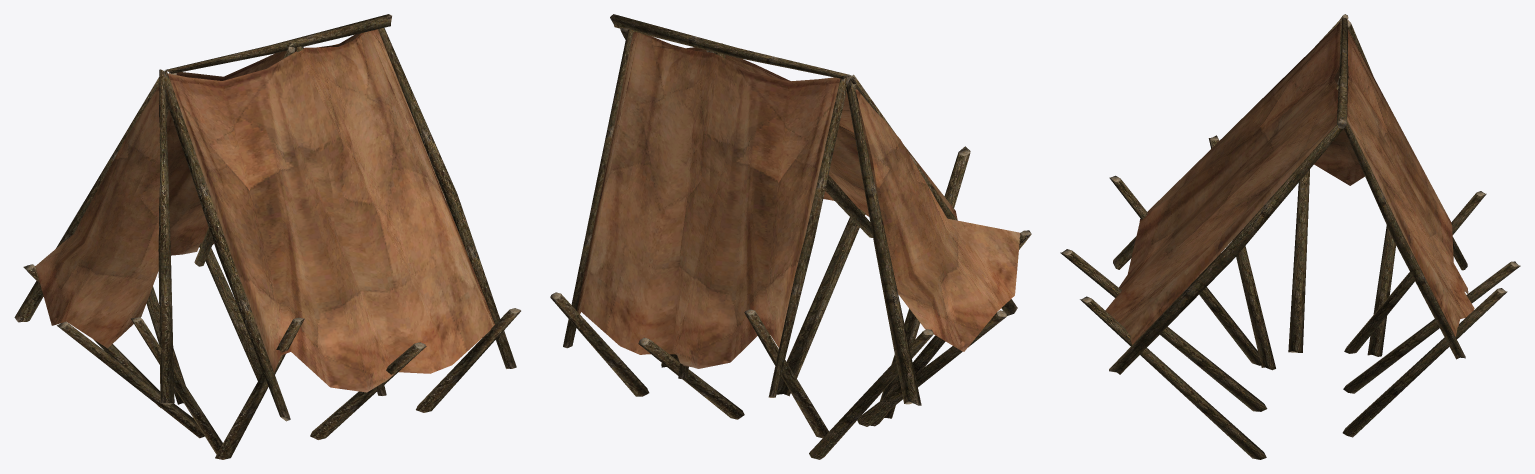
Rendered from poi_all_lair_wooden_l0.fbx.
3 views of the same model, side by side, from view 1: azimuth 30°, elevation 25°; view 2: azimuth 150°, elevation 25°; view 3: azimuth 270°, elevation 25° (orthographic). The views are drawn at different scales.
Parts seen in each view (by area): view 1: mesh_node; view 2: mesh_node; view 3: mesh_node.
Part boxes in pixels (x1=…): mesh_node: x1=14, y1=14, x2=520, y2=459; mesh_node: x1=550, y1=14, x2=1031, y2=459; mesh_node: x1=1060, y1=14, x2=1520, y2=459.
Bounding box in the file's own units: 8.2 × 7.88 × 9.57.
